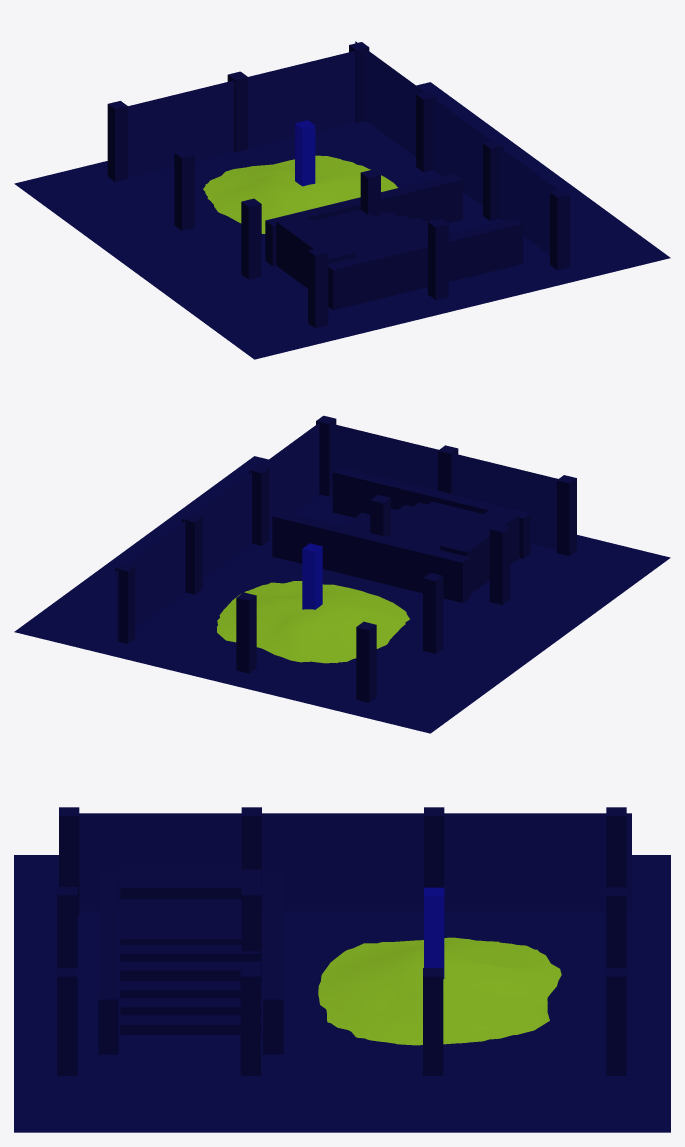
File: traces-world.glb
3 renders of one model, top to bottom at view 1: azimuth 30°, elevation 25°; view 2: azimuth 150°, elevation 25°; view 3: azimuth 270°, elevation 25°, orthographic. The views are drawn at different scales.
Parts seen in each view (by area): view 1: Floor, Plane, Plane_3, Cube, Landscape, Cube_11, Cube_1, Cube_2, Cube_2_3, Cube_2_2, Cube_3_2, Cube_1_2 (+8 smaller); view 2: Floor, Plane_3, Plane_1, Landscape, Cube_11, Cube, Cube_1, Cube_2, Cube_1_2, Cube_4_2, Cube_3_2, Cube_2_2 (+8 smaller); view 3: Floor, Plane_2, Landscape, Cube_2, Cube_1, Cube, Cube_11, Cube_4, Cube_7, Cube_3, Cube_8, Cube_7_2 (+12 smaller).
Boxes of the visible parts, box(x1,y1,x2,y2) form: Floor: box(14, 82, 670, 359); Plane: box(128, 51, 355, 177); Plane_3: box(355, 41, 558, 254); Cube: box(328, 218, 523, 310); Landscape: box(203, 155, 397, 233); Cube_11: box(265, 174, 462, 265); Cube_1: box(276, 215, 355, 288); Cube_2: box(313, 209, 410, 256); Cube_2_3: box(308, 247, 328, 328); Cube_2_2: box(174, 149, 194, 230); Cube_3_2: box(107, 101, 127, 181); Cube_1_2: box(241, 198, 261, 279); Floor: box(14, 456, 670, 733); Plane_3: box(115, 423, 319, 643); Plane_1: box(331, 423, 557, 550); Landscape: box(217, 581, 409, 663); Cube_11: box(272, 511, 470, 602); Cube: box(332, 467, 530, 558); Cube_1: box(440, 508, 519, 594); Cube_2: box(388, 501, 483, 549); Cube_1_2: box(489, 524, 510, 604); Cube_4_2: box(236, 592, 256, 673); Cube_3_2: box(356, 621, 376, 702); Cube_2_2: box(423, 573, 443, 653); Floor: box(14, 855, 670, 1132); Plane_2: box(79, 813, 631, 911); Landscape: box(318, 937, 561, 1045); Cube_2: box(120, 899, 241, 944); Cube_1: box(120, 869, 261, 899); Cube: box(98, 872, 118, 1054); Cube_11: box(263, 872, 283, 1054); Cube_4: box(120, 961, 261, 980); Cube_7: box(120, 1015, 261, 1034); Cube_3: box(120, 945, 261, 961); Cube_8: box(57, 968, 77, 1075); Cube_7_2: box(240, 968, 260, 1075).
Size of the model in its own units: 167 by 40.59 by 167.
